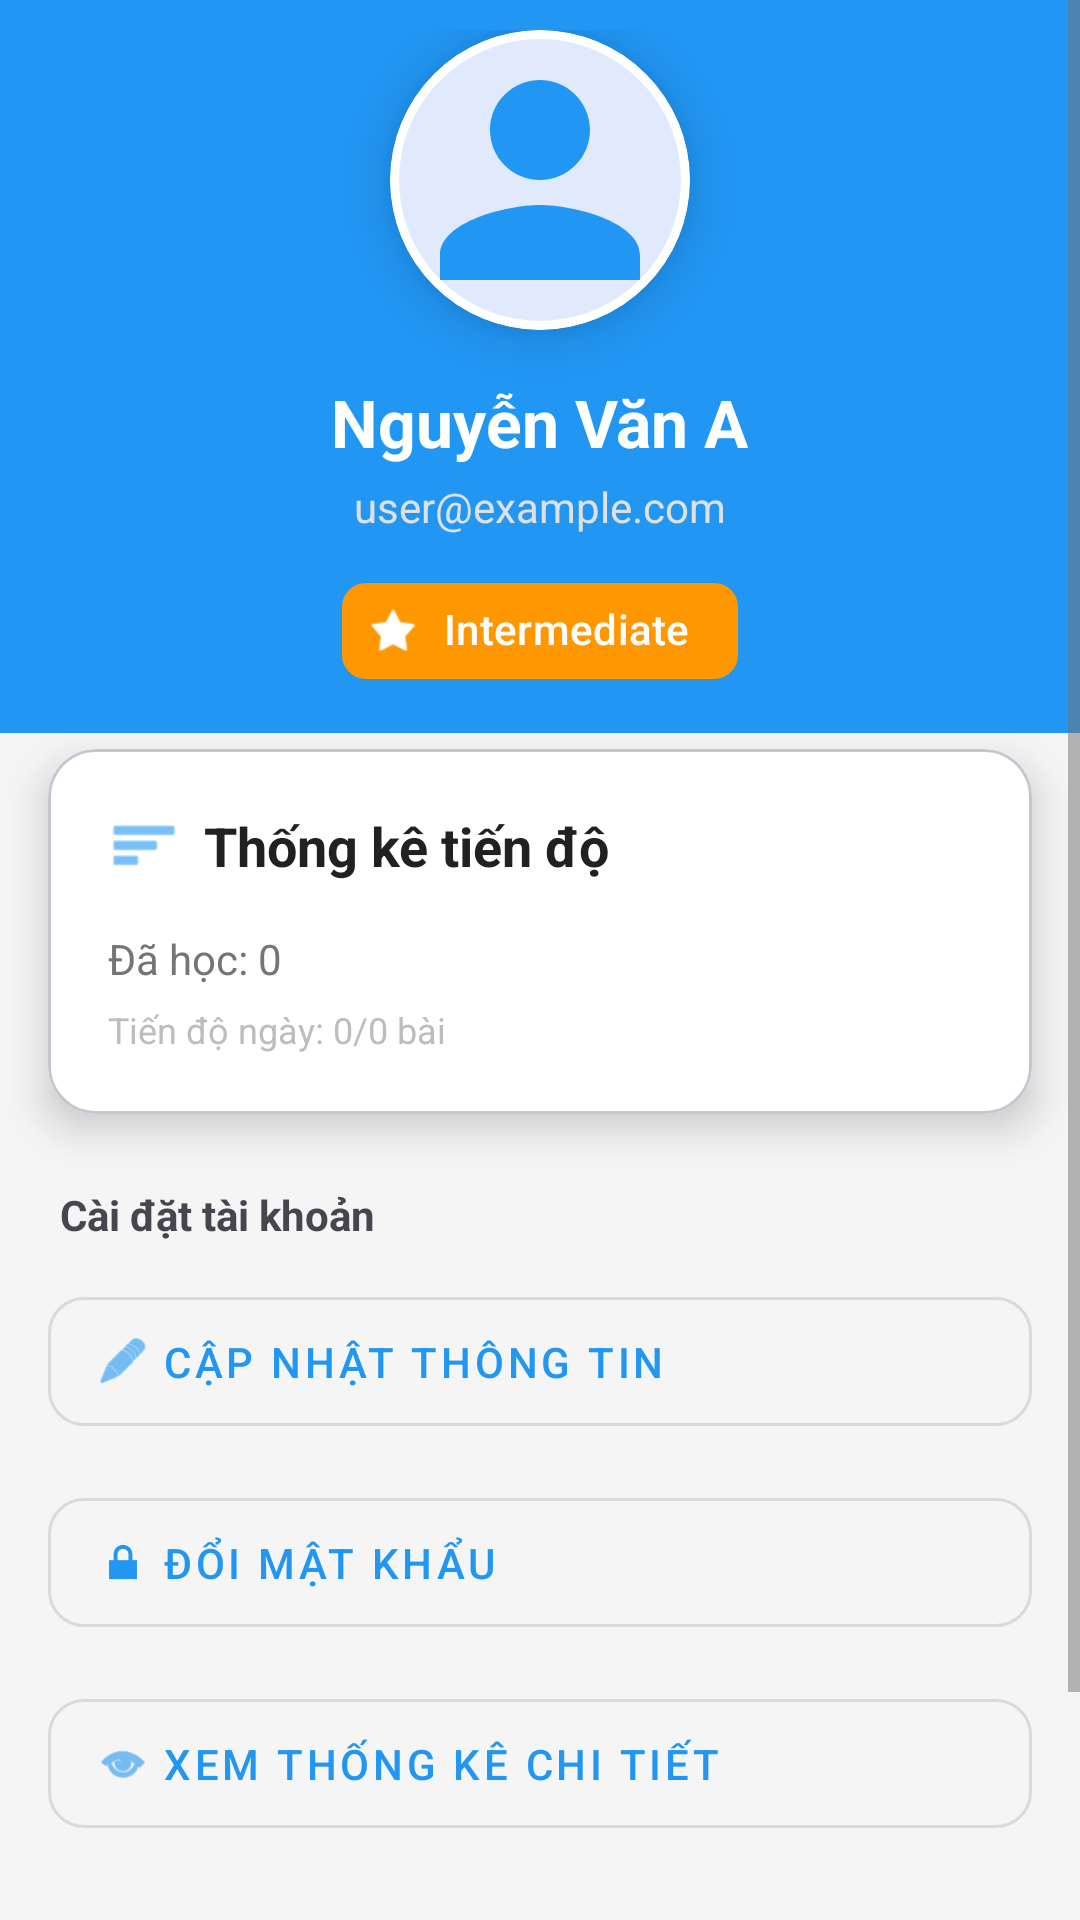

Screen size 1080 x 1920. Icon name, then its center in pixels as [x,y]:
Avatar: [540,180]
sort by size: [144,845]
